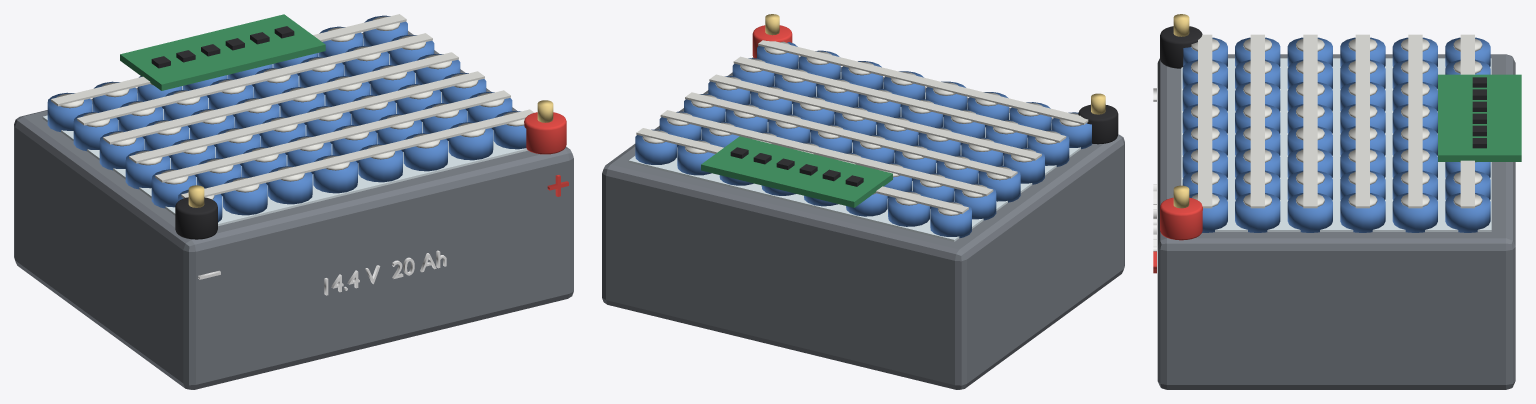
File: battery-module.glb
3 renders of one model, left to right at view 1: azimuth 30°, elevation 25°; view 2: azimuth 150°, elevation 25°; view 3: azimuth 270°, elevation 25°, orthographic. The views are drawn at different scales.
Parts seen in each view (by area): view 1: tray, bms, busbar.004, busbar.001, busbar.002, busbar.003, window, busbar, busbar.005, neg_cap, pos_cap, cell.036 (+43 smaller); view 2: tray, bms, busbar.004, busbar.001, busbar.002, busbar.003, busbar, window, busbar.005, cell.005, neg_cap, cell.047 (+39 smaller); view 3: tray, window, bms, busbar.002, busbar.004, busbar.001, busbar.003, busbar, pos_cap, busbar.005, cell.046, cell.043 (+45 smaller).
Boxes of the visible parts, x1,y1,x2,y2 form: tray: (14, 31, 573, 389); bms: (120, 14, 325, 90); busbar.004: (77, 33, 432, 125); busbar.001: (155, 90, 510, 182); busbar.002: (129, 71, 484, 163); busbar.003: (103, 52, 458, 144); window: (42, 38, 527, 225); busbar: (181, 109, 534, 198); busbar.005: (51, 14, 406, 106); neg_cap: (175, 197, 217, 239); pos_cap: (524, 112, 566, 154); cell.036: (448, 122, 493, 160); tray: (602, 56, 1124, 389); bms: (701, 136, 892, 207); busbar.004: (660, 110, 993, 196); busbar.001: (733, 56, 1066, 142); busbar.002: (709, 74, 1041, 160); busbar.003: (685, 92, 1017, 178); busbar: (758, 40, 1088, 124); window: (628, 62, 1080, 241); busbar.005: (636, 128, 968, 213); cell.005: (930, 201, 971, 238); neg_cap: (1078, 104, 1118, 144); cell.047: (635, 129, 676, 164); tray: (1157, 54, 1515, 389); window: (1181, 58, 1491, 231); bms: (1438, 74, 1521, 161); busbar.002: (1303, 34, 1317, 208); busbar.004: (1408, 34, 1422, 208); busbar.001: (1250, 34, 1264, 208); busbar.003: (1355, 34, 1369, 208); busbar: (1198, 34, 1212, 208); pos_cap: (1160, 197, 1202, 240); busbar.005: (1460, 34, 1474, 208); cell.046: (1392, 193, 1437, 232); cell.043: (1235, 193, 1280, 232).
Bounding box in the file's own units: 0.38 × 0.18 × 0.3085.
